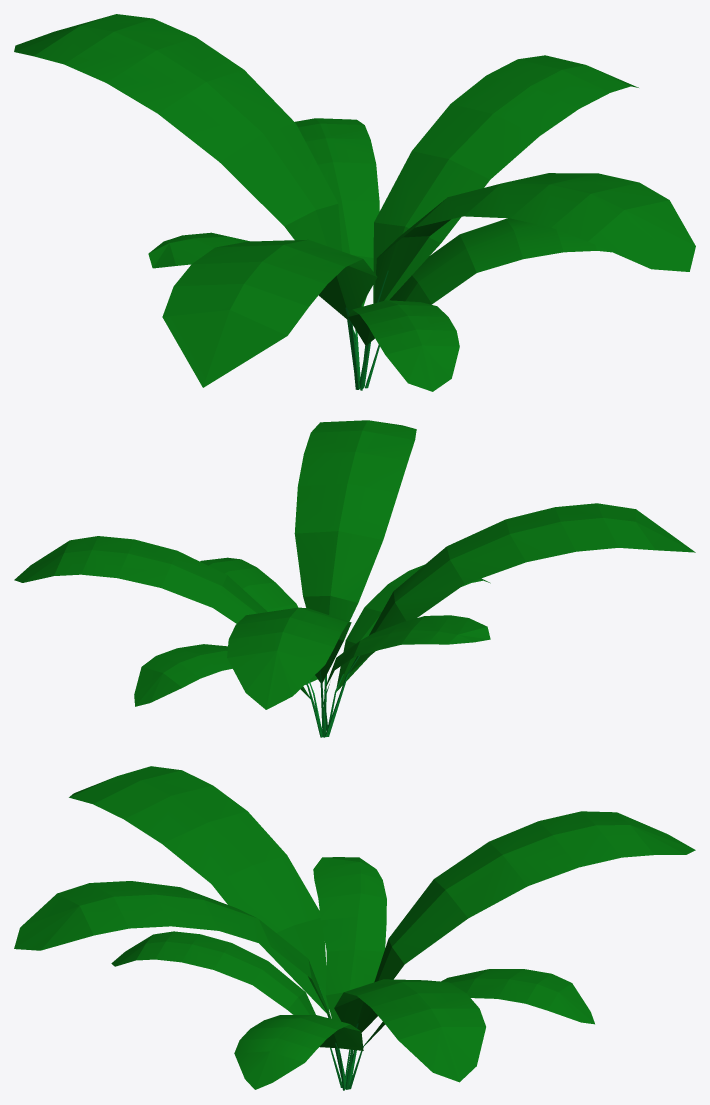
File: Fern-04-B.fbx
3 views of the same model, one above another, from view 1: azimuth 30°, elevation 25°; view 2: azimuth 150°, elevation 25°; view 3: azimuth 270°, elevation 25° (orthographic). The views are drawn at different scales.
Parts seen in each view (by area): view 1: Fern-01; view 2: Fern-01; view 3: Fern-01.
Part boxes in pixels (box(x1,y1,x2,y2)): Fern-01: box(14, 14, 695, 391); Fern-01: box(14, 420, 695, 737); Fern-01: box(14, 766, 695, 1090).
Bounding box in the file's own units: 3.02 × 1.2 × 3.26.
